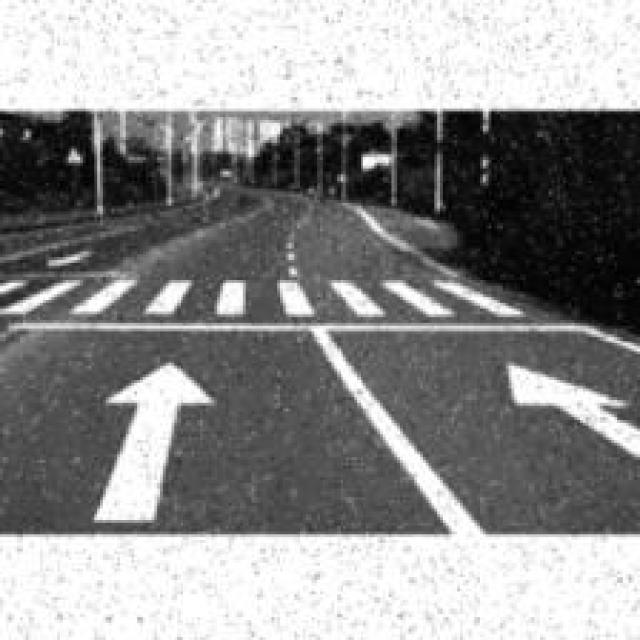walk-crossing: (10, 258, 539, 336)
